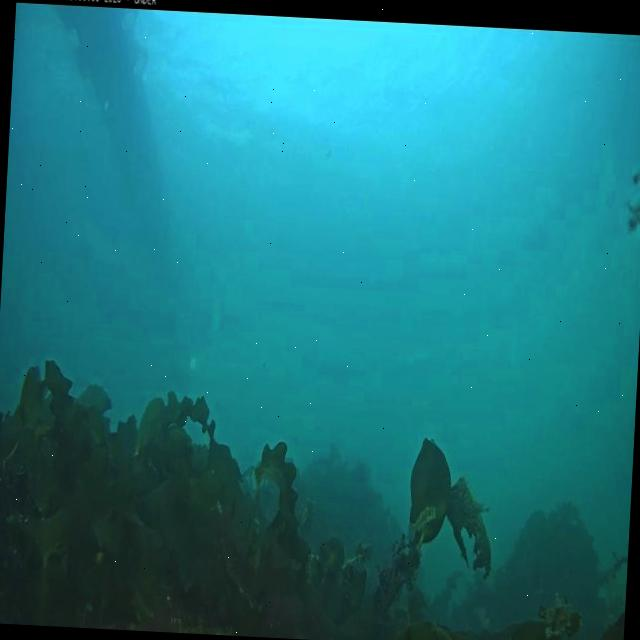fish: (410, 508, 436, 540)
